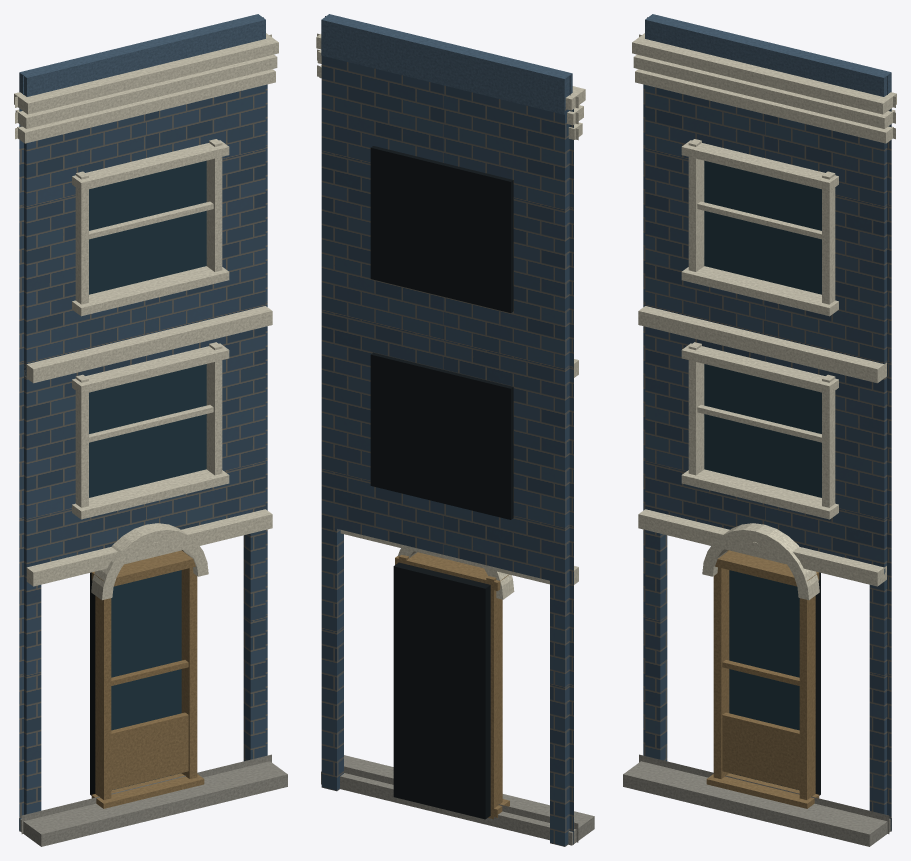
Rendered from OFFC11_lod2.glb.
The picture shows the model from 3 angles, left to right: view 1: azimuth 30°, elevation 25°; view 2: azimuth 150°, elevation 25°; view 3: azimuth 330°, elevation 25°; orthographic projection.
Parts seen in each view (by area): view 1: OFFC11_FRONT_LOD2; view 2: OFFC11_FRONT_LOD2; view 3: OFFC11_FRONT_LOD2.
Part boxes in pixels (x1=…): OFFC11_FRONT_LOD2: x1=14, y1=14, x2=287, y2=846; OFFC11_FRONT_LOD2: x1=316, y1=14, x2=594, y2=846; OFFC11_FRONT_LOD2: x1=623, y1=14, x2=896, y2=846.
Bounding box in the file's own units: 3.44 × 9.66 × 0.68.
8 materials, 6 textured.
